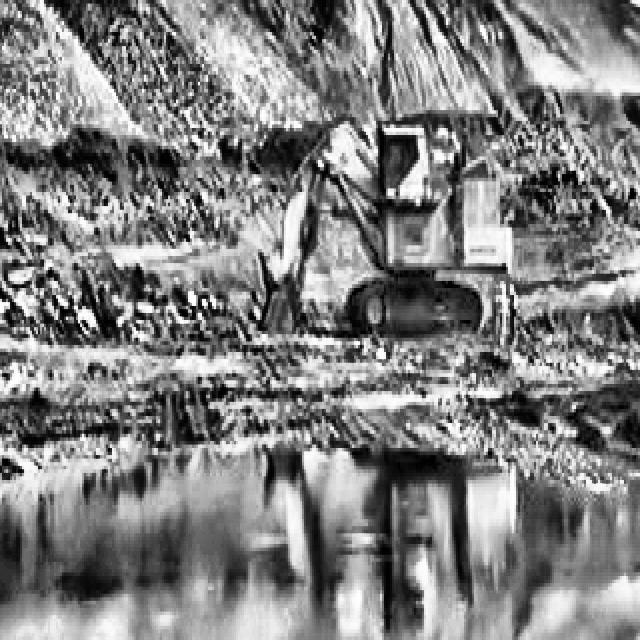excavator: (238, 94, 519, 376)
